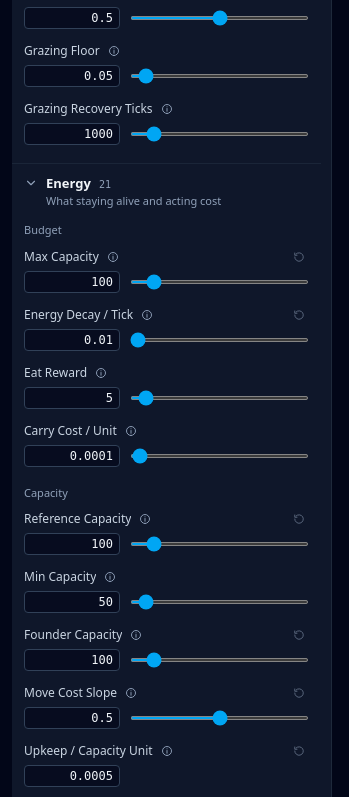
Test case: ConfigPanel › renders field errors that match no runtime row in the panel message
This screenshot has width=349, height=797.
(page scrolled)
Replace the text in the number field with test id "config-field-energy-costs-eat-reward-per-food" with "7.5": coordinates (72, 398) [24, 387, 120, 409]
(page scrolled)
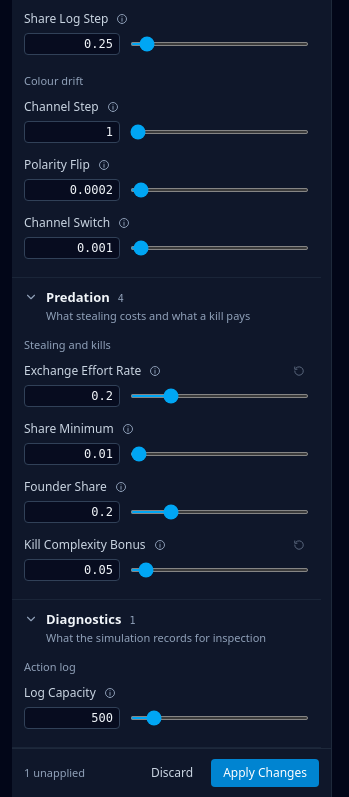
Click the button "Apply Changes": coordinates (265, 773) [211, 759, 319, 787]
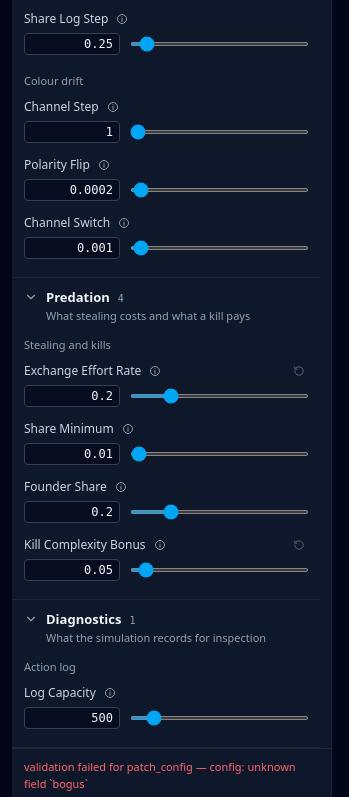
Check: the message with test id "config-error" shows "config: unknown field `bogus`", box [24, 759, 296, 791]
